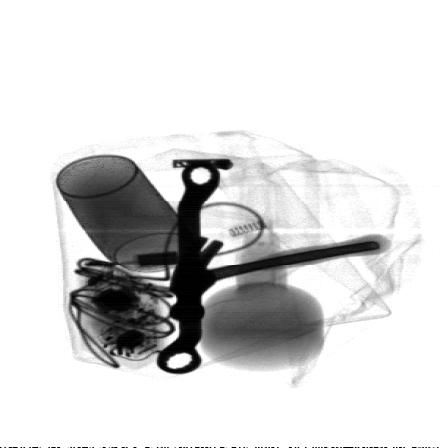Hammer: (169, 233, 396, 320)
Wrench: (156, 160, 220, 374)
